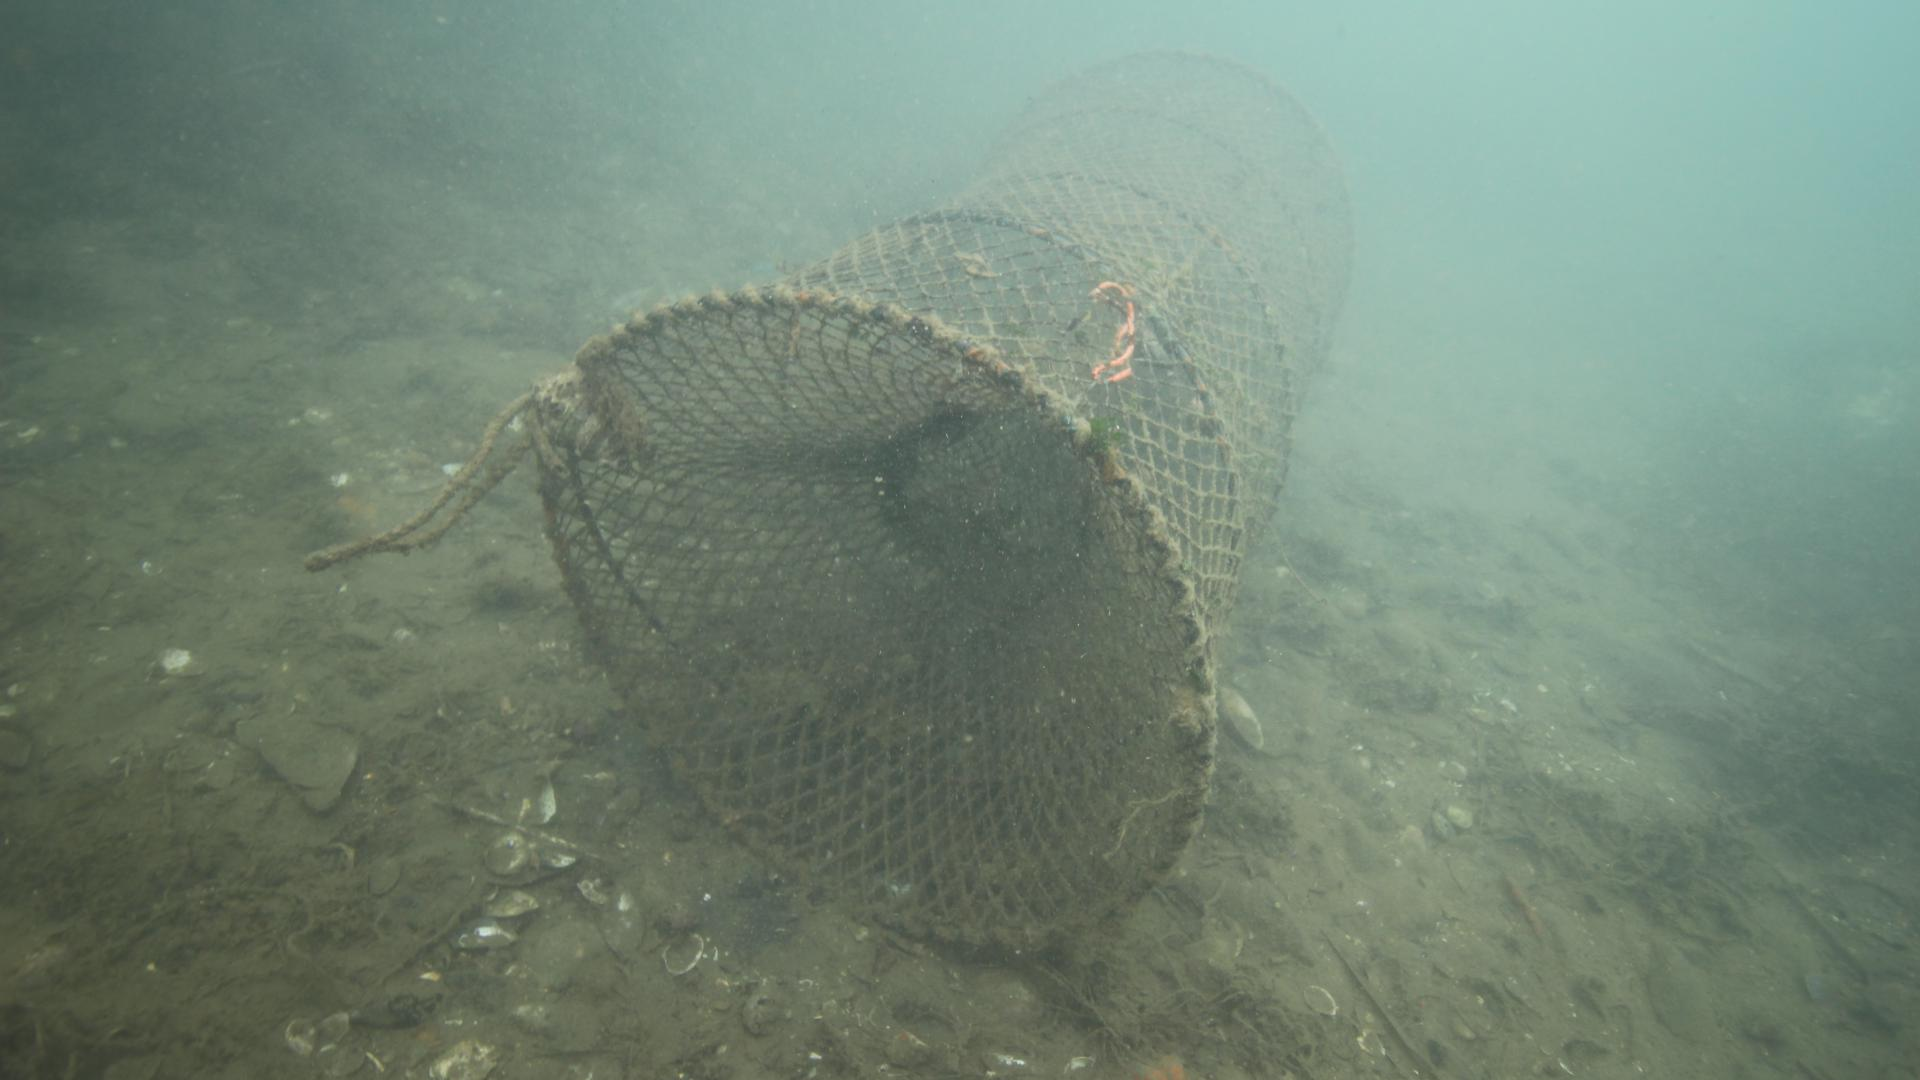bundle of ropes: (285, 367, 547, 574)
spring fish trap: (534, 50, 1360, 963)
